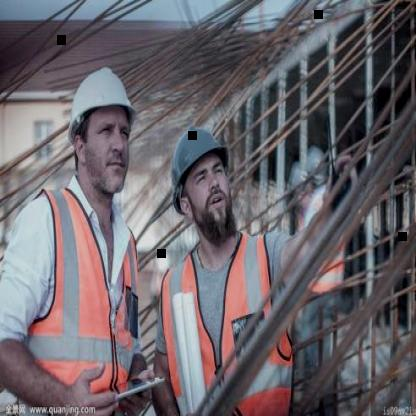helmet: (64, 64, 140, 149), (167, 121, 235, 211)
